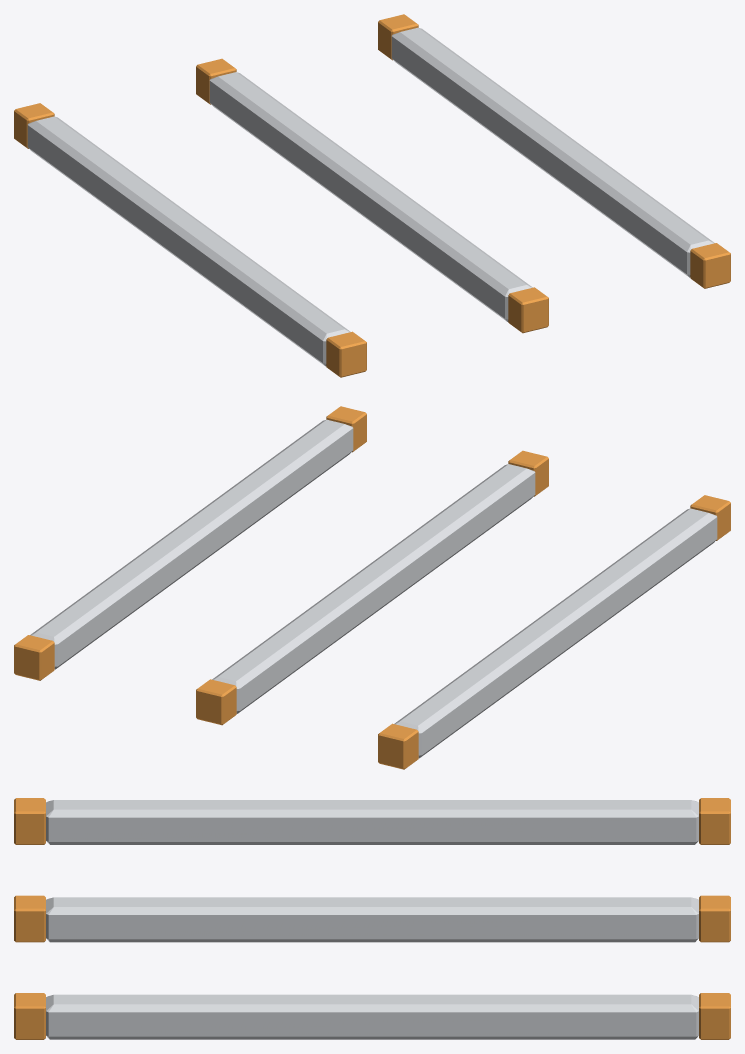
Rendered from pallet-support-bar-set.glb.
3 views of the same model, one above another, from view 1: azimuth 30°, elevation 25°; view 2: azimuth 150°, elevation 25°; view 3: azimuth 270°, elevation 25° (orthographic). The views are drawn at different scales.
Parts seen in each view (by area): view 1: rack-pallet-support-bars; view 2: rack-pallet-support-bars; view 3: rack-pallet-support-bars.
Part boxes in pixels (x1,y1,x2,y2): rack-pallet-support-bars: (14, 14, 730, 377); rack-pallet-support-bars: (14, 406, 730, 769); rack-pallet-support-bars: (14, 798, 730, 1039).
Bounding box in the file's own units: 0.7801 × 0.058 × 1.12.
